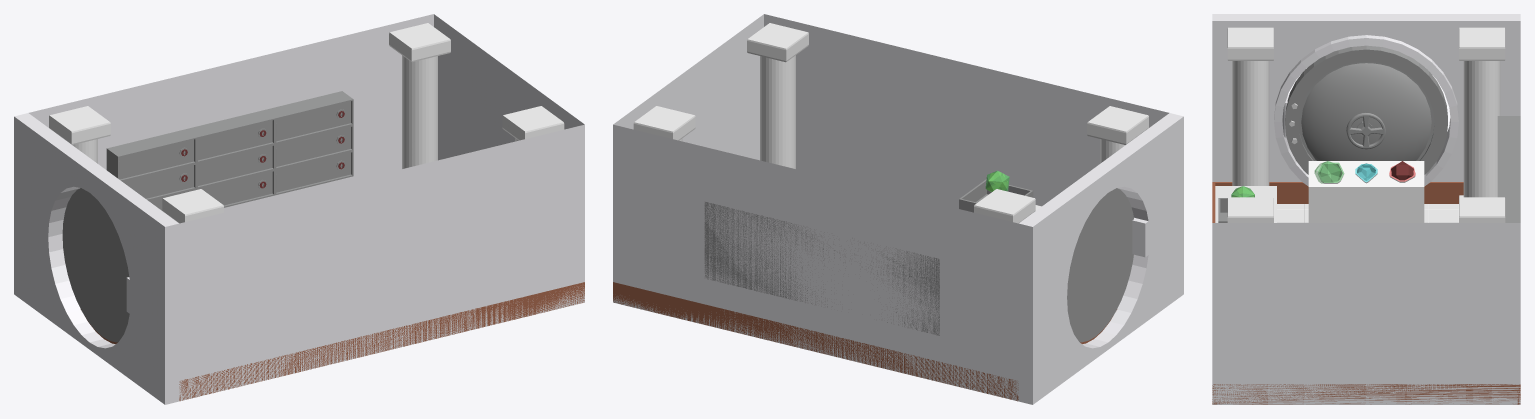
File: Project2v8.glb
3 views of the same model, side by side, from view 1: azimuth 30°, elevation 25°; view 2: azimuth 150°, elevation 25°; view 3: azimuth 270°, elevation 25° (orthographic). The views are drawn at different scales.
Visible parts, largest first — view 1: walls, vault wall, pillars, trim, vault base, lockbox, lockdoor.001, lockdoor.002, lockdoor.003, lockdoor, lockdoor.004, lockdoor.005 (+2 smaller); view 2: walls, vault wall, pillars, lockbox, trim, vault base, tray; view 3: walls, vault wall, vault base, pillars, gem slots, trim, lockbox, floor, vault handle, start, 1slot, 2slot.
Boxes of the visible parts, bbox=[...] form: walls: bbox=[29, 14, 584, 404]; vault wall: bbox=[14, 113, 179, 404]; pillars: bbox=[49, 23, 564, 223]; trim: bbox=[80, 282, 584, 400]; vault base: bbox=[62, 188, 129, 342]; lockbox: bbox=[106, 91, 353, 207]; lockdoor.001: bbox=[119, 139, 193, 179]; lockdoor.002: bbox=[198, 120, 272, 160]; lockdoor.003: bbox=[276, 101, 350, 141]; lockdoor: bbox=[276, 152, 350, 192]; lockdoor.004: bbox=[276, 127, 350, 166]; lockdoor.005: bbox=[198, 146, 272, 185]; walls: bbox=[613, 14, 1168, 404]; vault wall: bbox=[1018, 113, 1183, 404]; pillars: bbox=[633, 23, 1148, 223]; lockbox: bbox=[704, 202, 939, 335]; trim: bbox=[613, 282, 1117, 401]; vault base: bbox=[1067, 188, 1133, 342]; tray: bbox=[959, 179, 1033, 212]; walls: bbox=[1212, 223, 1520, 404]; vault wall: bbox=[1212, 14, 1520, 186]; vault base: bbox=[1285, 45, 1447, 174]; pillars: bbox=[1227, 27, 1505, 222]; gem slots: bbox=[1308, 161, 1424, 222]; trim: bbox=[1212, 182, 1520, 404]; lockbox: bbox=[1497, 116, 1520, 222]; floor: bbox=[1277, 204, 1458, 222]; vault handle: bbox=[1346, 113, 1385, 149]; start: bbox=[1215, 186, 1276, 222]; 1slot: bbox=[1314, 161, 1340, 183]; 2slot: bbox=[1391, 161, 1413, 180].
Size of the model in its own units: 16.04 by 6.51 by 10.
